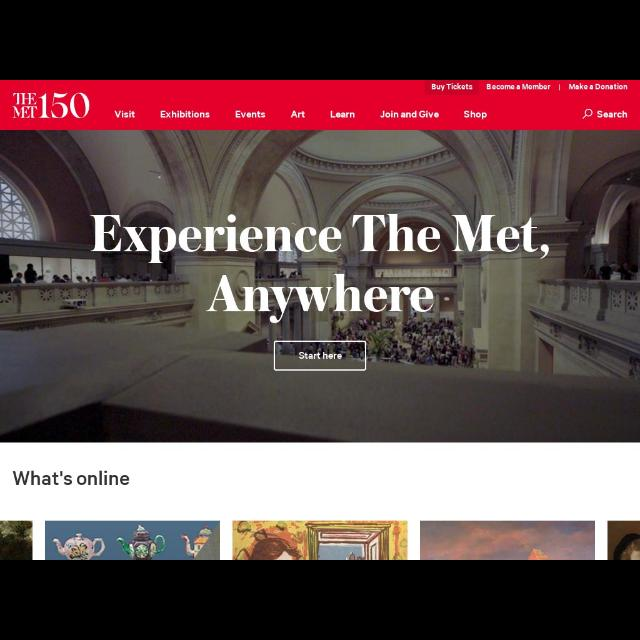backgroundimage: (1, 130, 640, 442)
icon: (583, 110, 593, 118)
image: (45, 521, 219, 559), (234, 521, 406, 559), (422, 521, 594, 559), (608, 521, 638, 559), (1, 522, 32, 558)
text: (90, 214, 550, 264), (206, 274, 434, 322), (12, 92, 90, 120), (13, 471, 129, 485), (381, 111, 439, 119), (569, 82, 627, 90), (160, 110, 210, 118), (487, 84, 551, 90), (298, 351, 342, 359), (432, 83, 472, 91), (235, 110, 265, 118), (464, 110, 488, 120), (597, 110, 627, 118), (331, 110, 355, 118), (114, 110, 136, 118), (291, 110, 305, 118)
textbutton: (274, 342, 366, 370), (426, 80, 478, 96)
toolbar: (1, 80, 640, 130)
